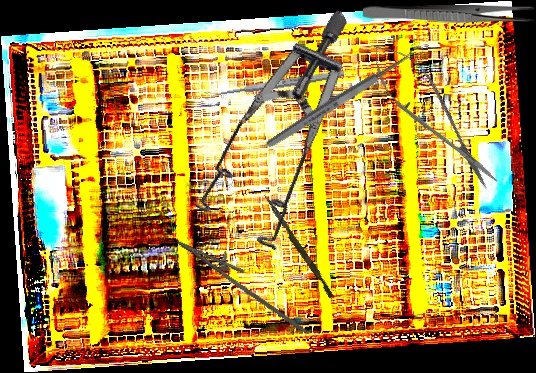Dressing Forceps: (363, 5, 534, 23)
Micro Scissor: (357, 30, 510, 201)
Needle Holder: (167, 229, 323, 335)
Pusher: (259, 193, 337, 299)
Speculum: (146, 8, 429, 275)
Surgical Spoon: (263, 43, 427, 151), (204, 69, 345, 100)
